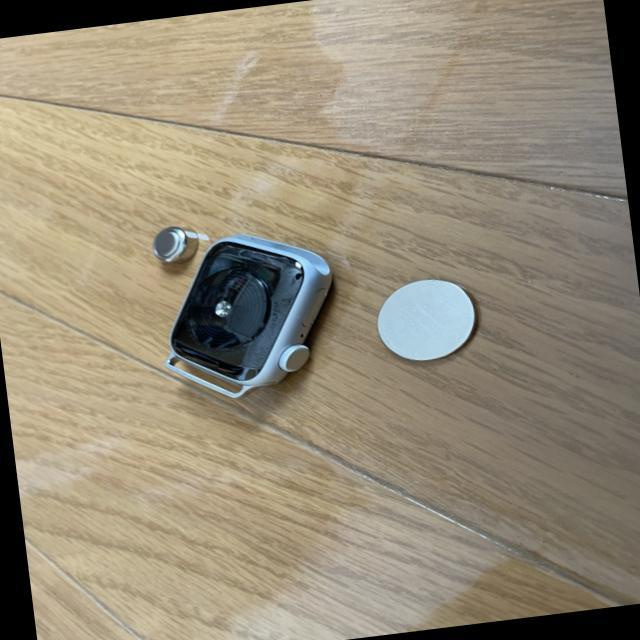COIN: (373, 272, 480, 364), (148, 222, 200, 264)
